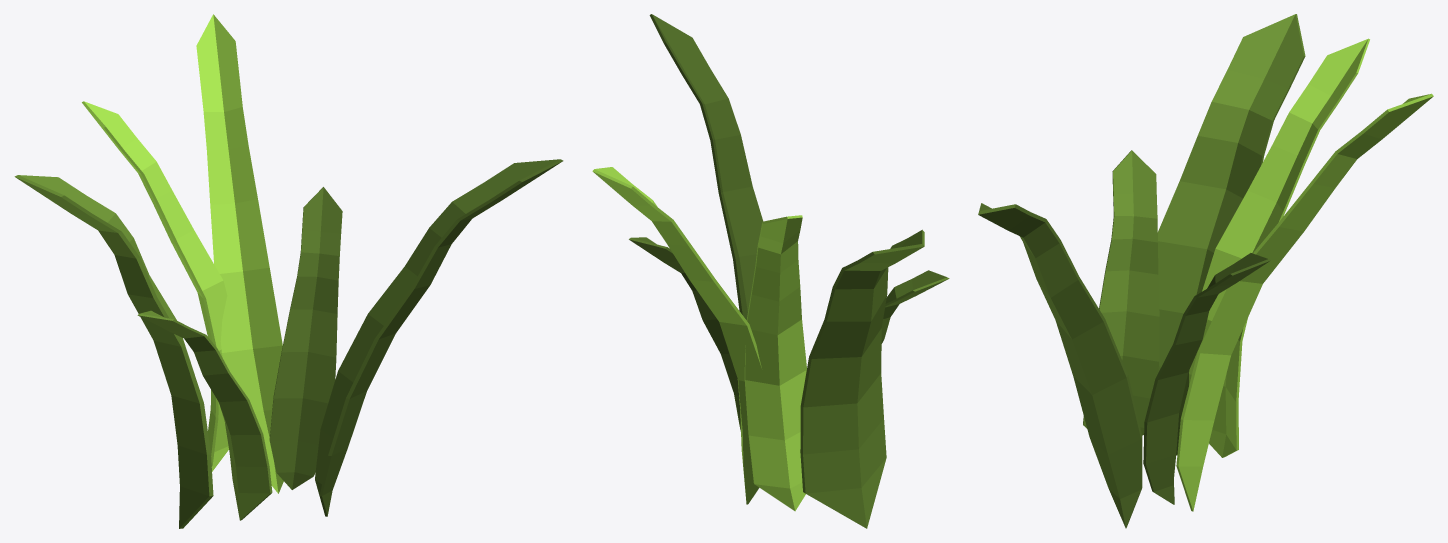
File: Smallpatch.fbx
3 views of the same model, side by side, from view 1: azimuth 30°, elevation 25°; view 2: azimuth 150°, elevation 25°; view 3: azimuth 270°, elevation 25° (orthographic). The views are drawn at different scales.
Visible parts, largest first — view 1: small patch; view 2: small patch; view 3: small patch.
Boxes of the visible parts, x1,y1,x2,y2 form: small patch: (14,14,563,528); small patch: (592,14,949,528); small patch: (978,14,1433,528).
Bounding box in the file's own units: 142 × 164 × 153.
